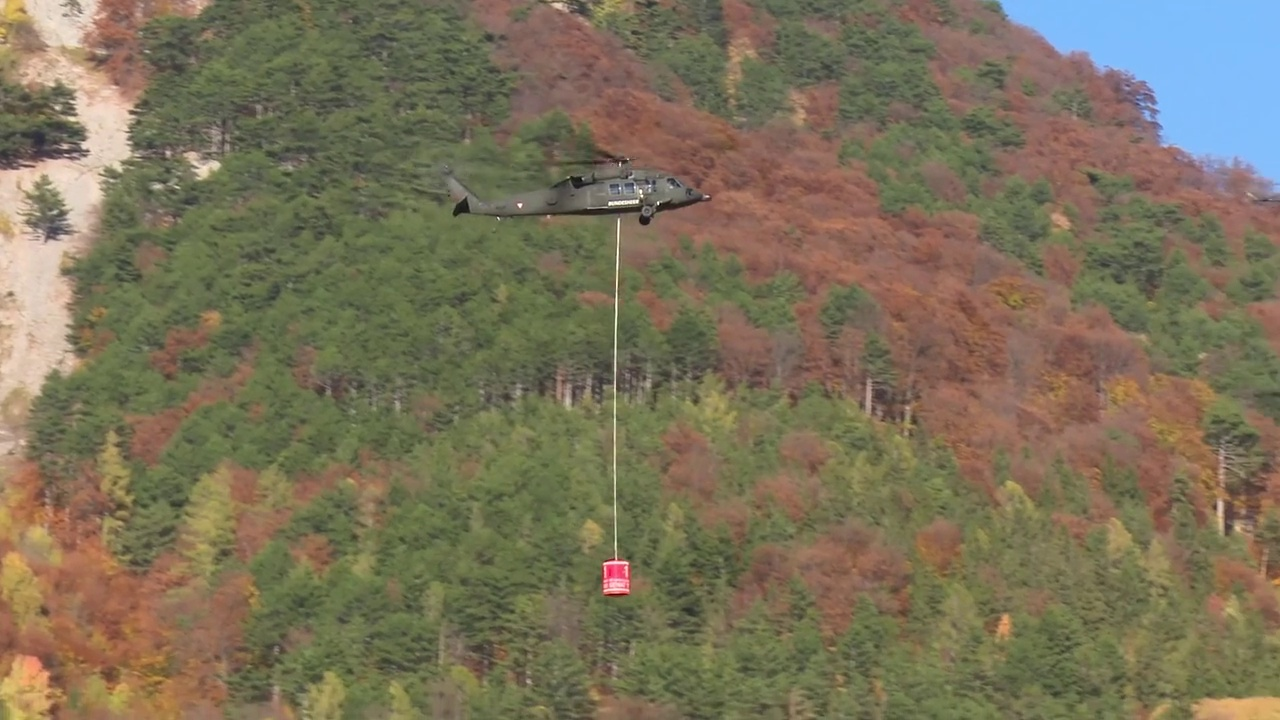heli: (445, 152, 716, 225)
